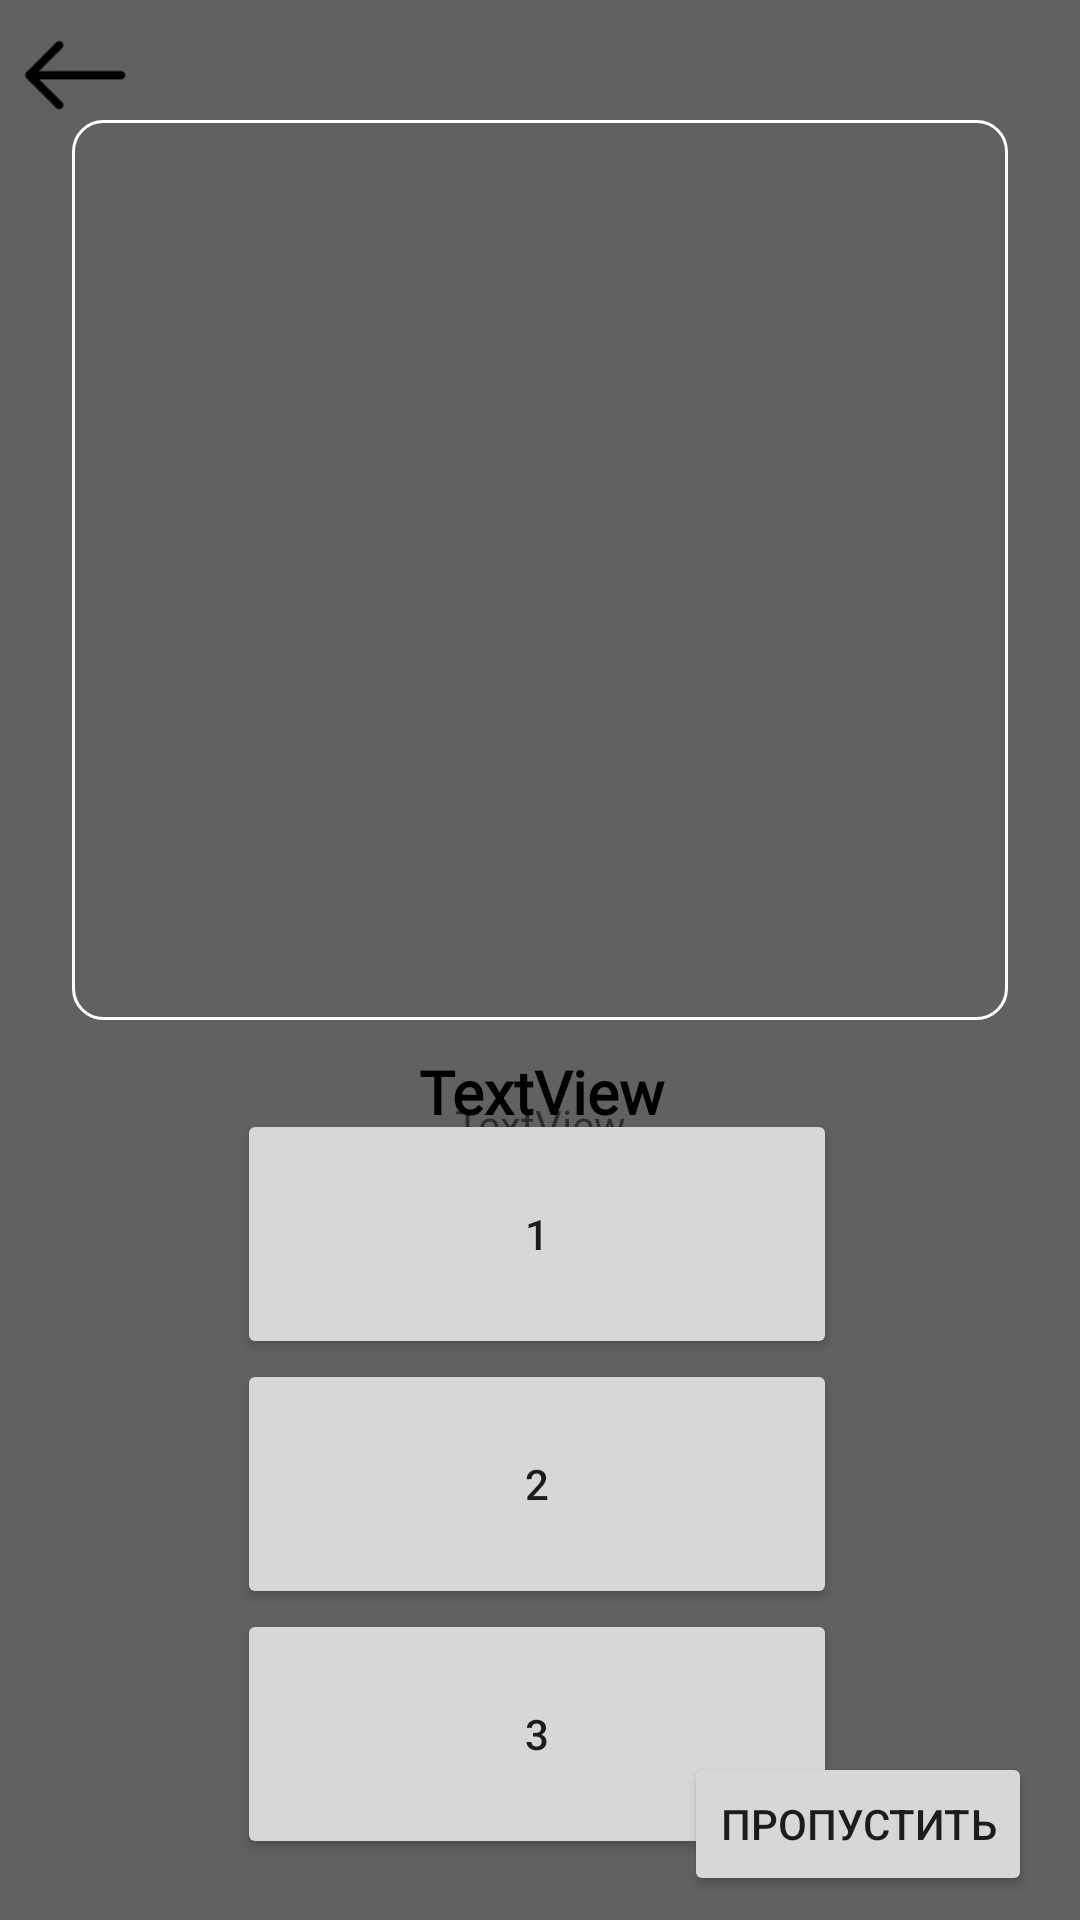

Screen size 1080 × 1920. Icon name, then its box in pixels as (x1, y1, x2, y2):
back: (25, 41, 126, 109)
